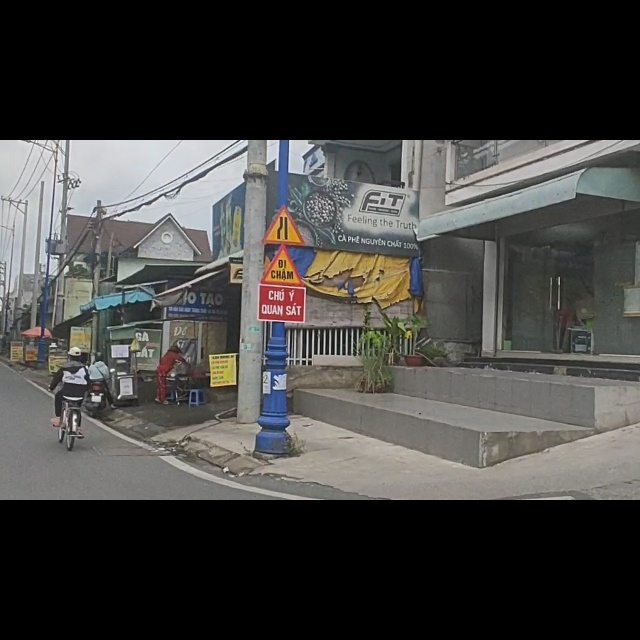Đi chậm: (260, 245, 307, 286)
Đường bị hẹp bên trái: (261, 205, 305, 245)
